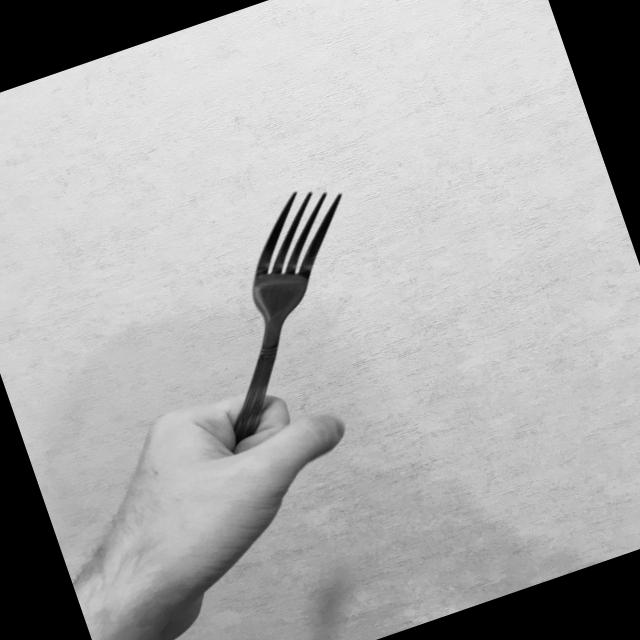fork: (152, 172, 432, 496)
